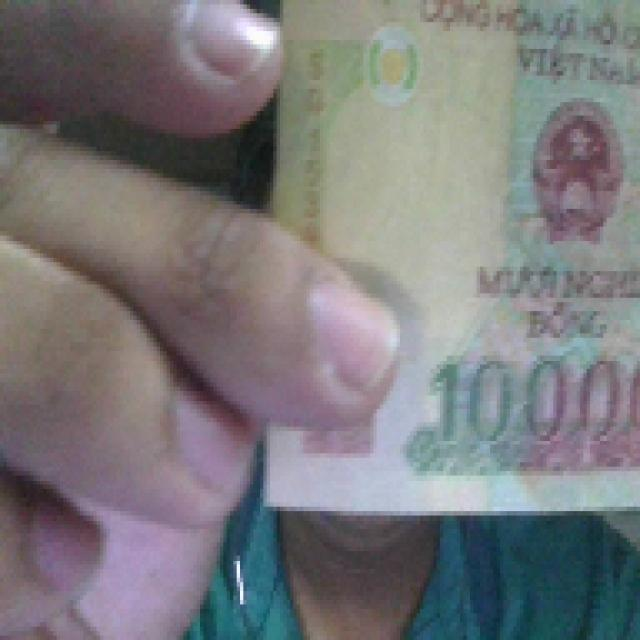10 000 VND: (256, 0, 636, 520)
